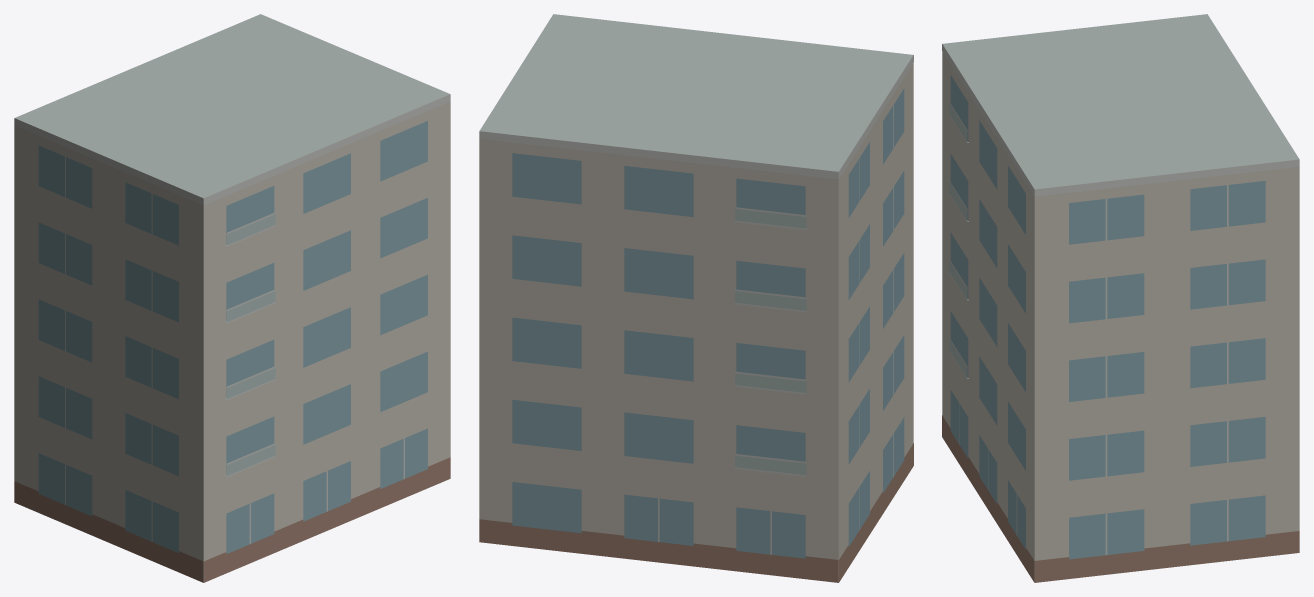
The model's file is survey-upis-33013996.glb.
The picture shows the model from 3 angles, left to right: view 1: azimuth 30°, elevation 25°; view 2: azimuth 150°, elevation 25°; view 3: azimuth 270°, elevation 25°; orthographic projection. The views are drawn at different scales.
Parts seen in each view (by area): view 1: survey-upis-33013996.tmp; view 2: survey-upis-33013996.tmp; view 3: survey-upis-33013996.tmp.
Boxes of the visible parts, x1,y1,x2,y2 form: survey-upis-33013996.tmp: (14,14,450,582); survey-upis-33013996.tmp: (479,14,913,582); survey-upis-33013996.tmp: (942,14,1299,582).
Bounding box in the file's own units: 12.64 × 13.2 × 10.88.
